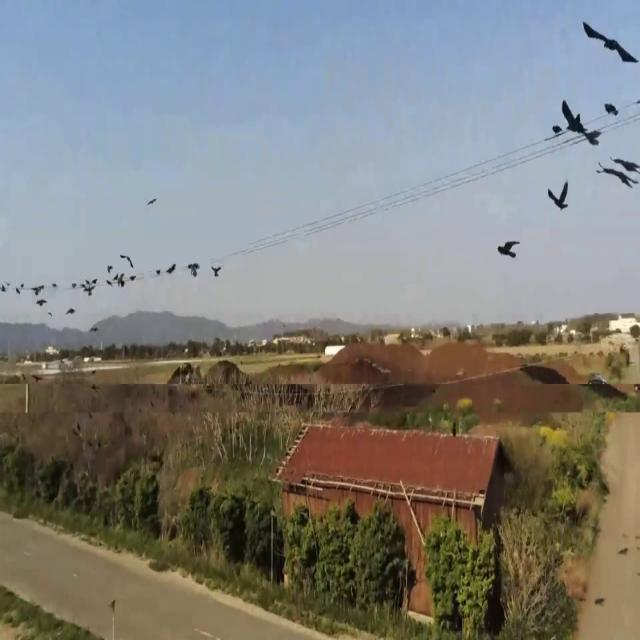bird: (585, 10, 636, 81), (563, 94, 600, 158), (600, 151, 637, 201), (547, 177, 570, 220), (497, 233, 519, 265), (121, 248, 136, 279), (82, 273, 97, 302), (604, 96, 618, 124), (108, 269, 125, 291), (34, 286, 46, 312), (188, 256, 200, 281), (211, 258, 222, 282), (167, 258, 176, 280), (147, 192, 157, 211), (66, 301, 75, 322), (16, 281, 21, 299)
